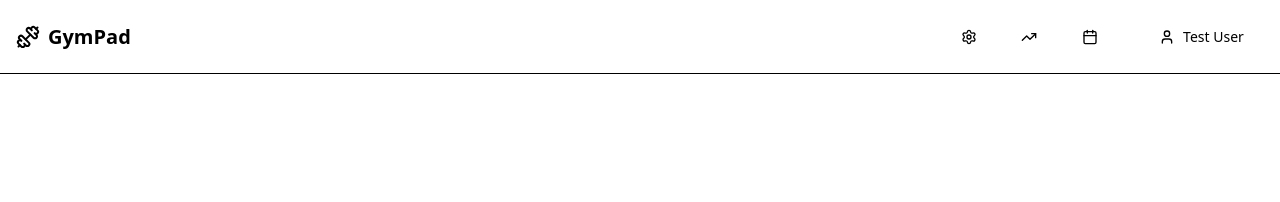
Test case: Header Component › User Menu › toggles user menu when user button is clicked
Expected: the text "Signed in as" is not shown
# Open menu
Click the button titled "Test User".
click(1201, 37)  # box [1139,16,1264,57]
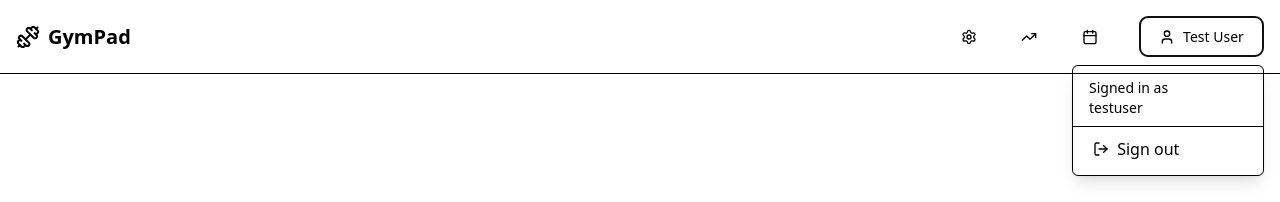
Expected: the text "Signed in as" is shown, [1089,78,1168,97]
Expected: the text "testuser" is shown, [1089,98,1143,117]
# Close menu
Click the button titled "Test User".
click(1201, 37)  # box [1139,16,1264,57]
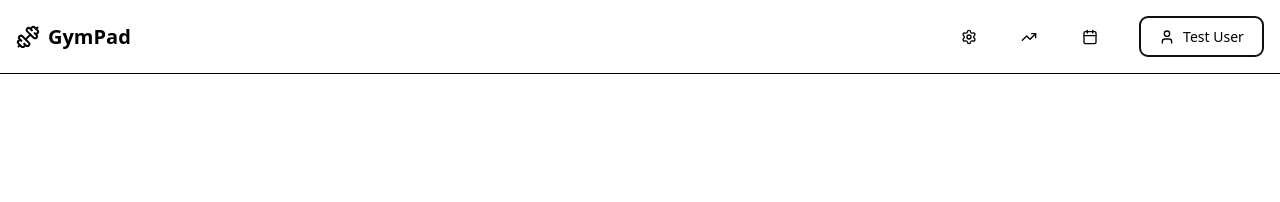
Expected: the text "Signed in as" is gone
